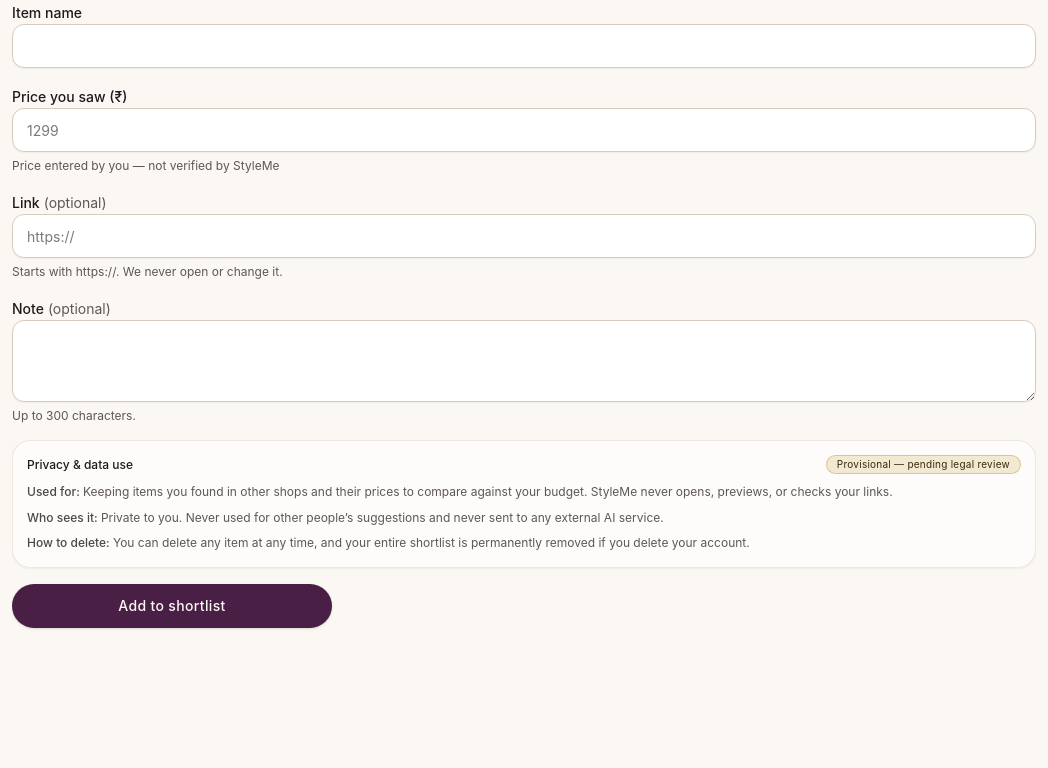
Scenario: add an item you found (FR-LIST-01) › shows field errors from the action and keeps what was typed
Type "Juttis" into the field labelled "Item name".
click(524, 46); type("Juttis")  # box left=12, top=24, right=1036, bottom=68
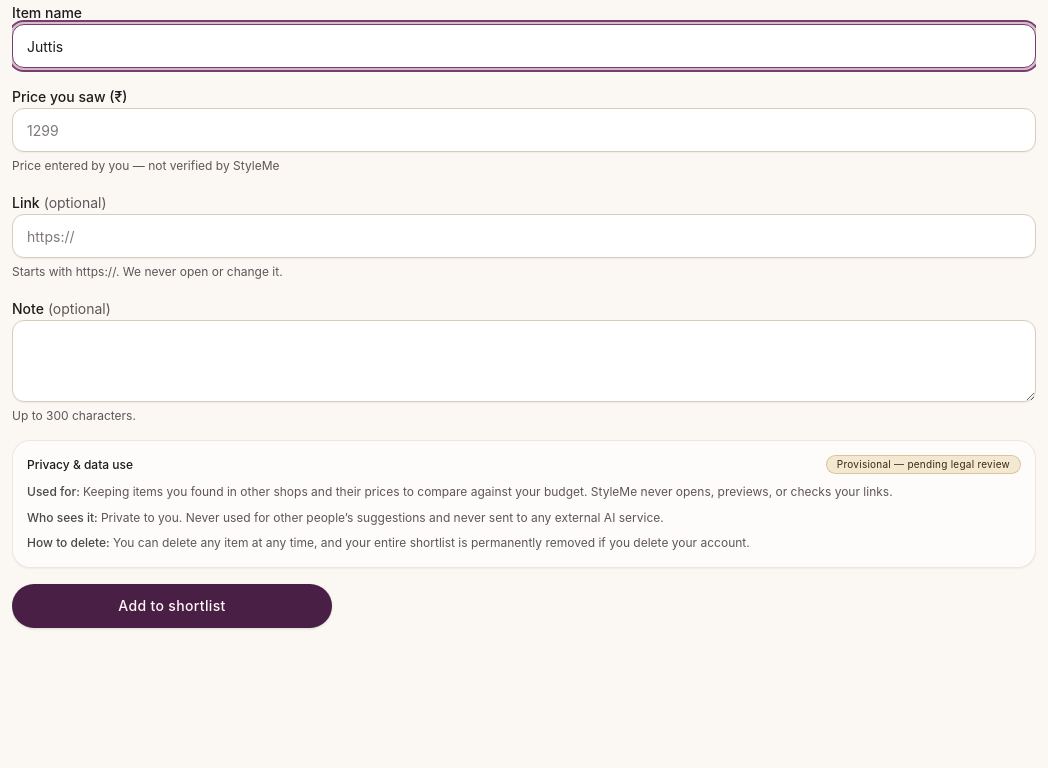
Type "http://shop.example/juttis" into the field labelled "Link(optional)".
click(524, 236); type("http://shop.example/juttis")  # box left=12, top=214, right=1036, bottom=258
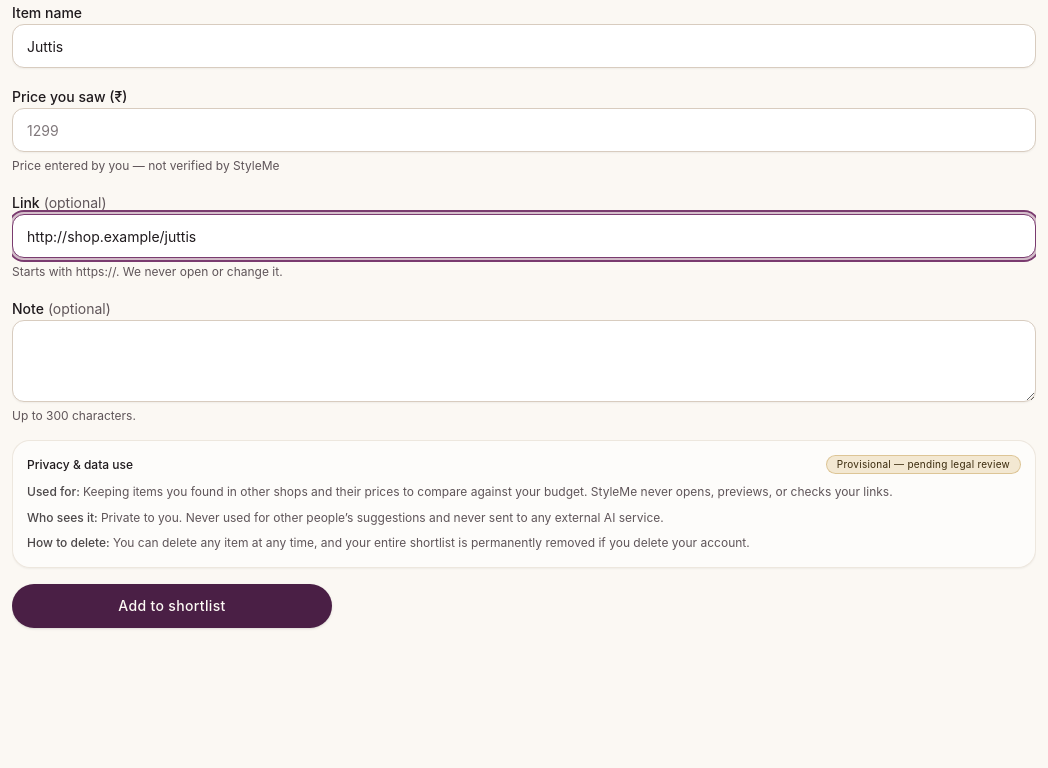
Click the button "Add to shortlist".
click(172, 606)  # box left=12, top=584, right=332, bottom=628
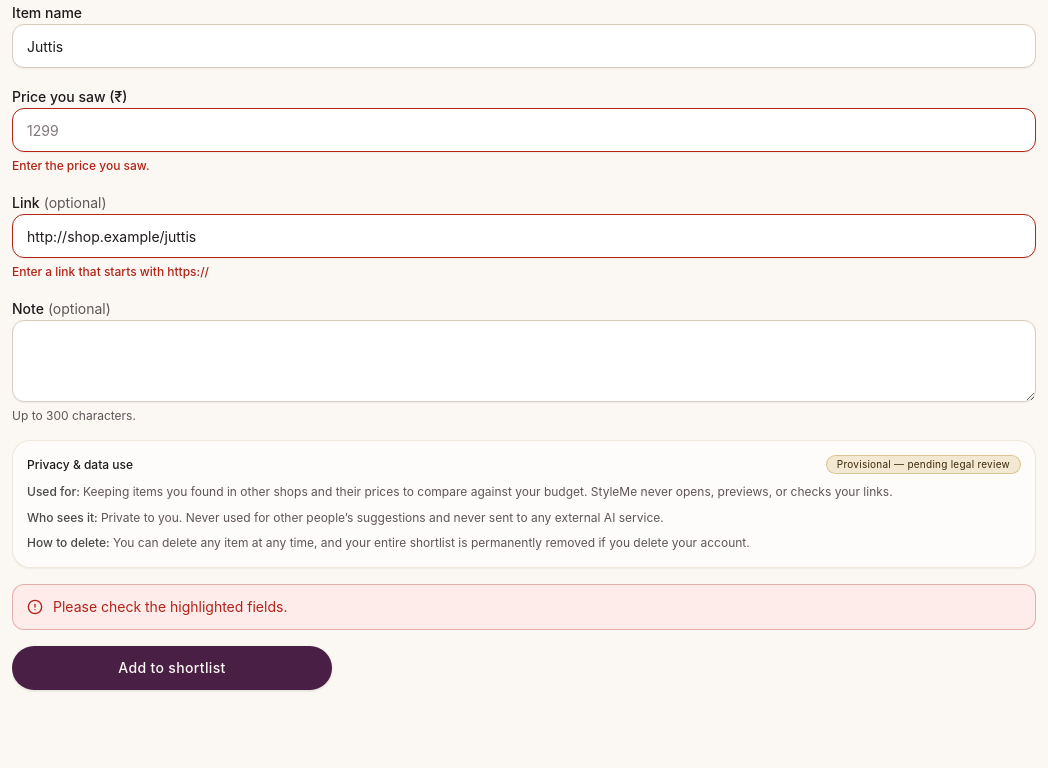
expect the message reads "Please check the highlighted fields.": met, box left=53, top=598, right=287, bottom=615
